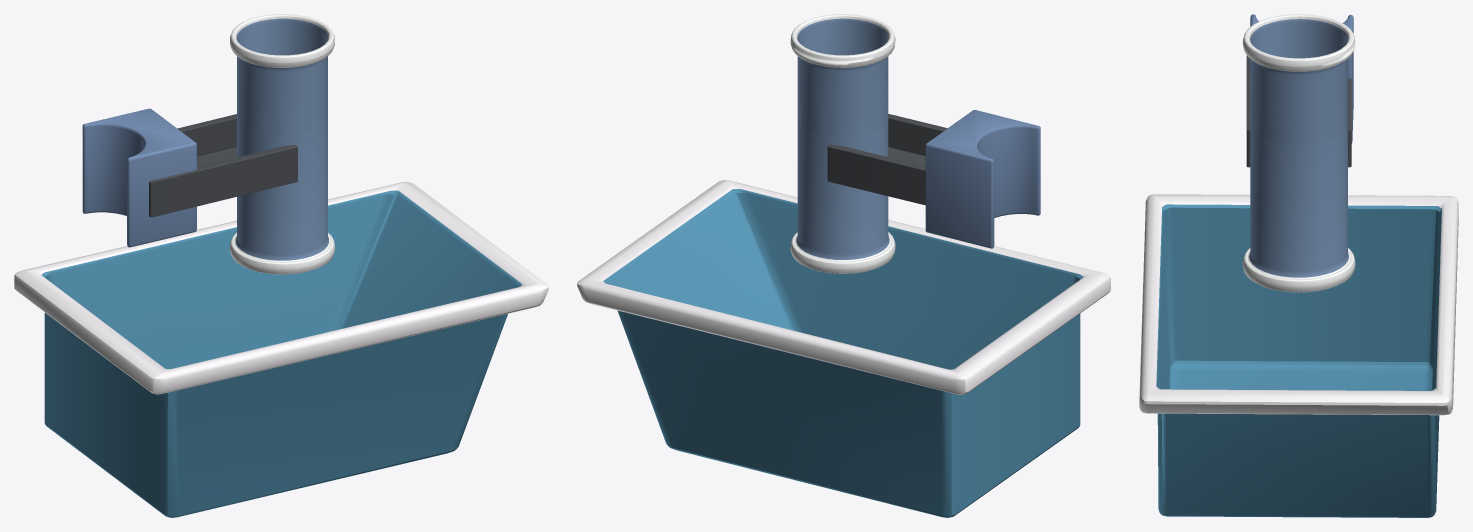
File: Machine.fbx
The picture shows the model from 3 angles, left to right: view 1: azimuth 30°, elevation 25°; view 2: azimuth 150°, elevation 25°; view 3: azimuth 270°, elevation 25°; orthographic projection. The views are drawn at different scales.
Visible parts, largest first — view 1: Cube.004, Cylinder.006, Cube.003, Cube.002; view 2: Cube.004, Cylinder.006, Cube.003, Cube.002; view 3: Cube.004, Cylinder.006, Cube.002, Cube.003.
Boxes of the visible parts, x1=… form: Cube.004: x1=14, y1=181, x2=548, y2=517; Cylinder.006: x1=230, y1=14, x2=334, y2=274; Cube.003: x1=82, y1=108, x2=196, y2=247; Cube.002: x1=149, y1=114, x2=297, y2=217; Cube.004: x1=577, y1=180, x2=1110, y2=517; Cylinder.006: x1=790, y1=14, x2=895, y2=273; Cube.003: x1=925, y1=110, x2=1040, y2=248; Cube.002: x1=827, y1=114, x2=947, y2=205; Cube.004: x1=1139, y1=194, x2=1458, y2=517; Cylinder.006: x1=1242, y1=14, x2=1355, y2=292; Cube.002: x1=1246, y1=55, x2=1351, y2=167; Cube.003: x1=1249, y1=14, x2=1353, y2=143.
Bounding box in the file's own units: 540 × 513 × 350.
